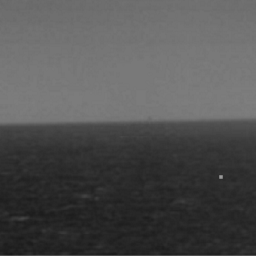Target: (217, 173, 225, 181)
